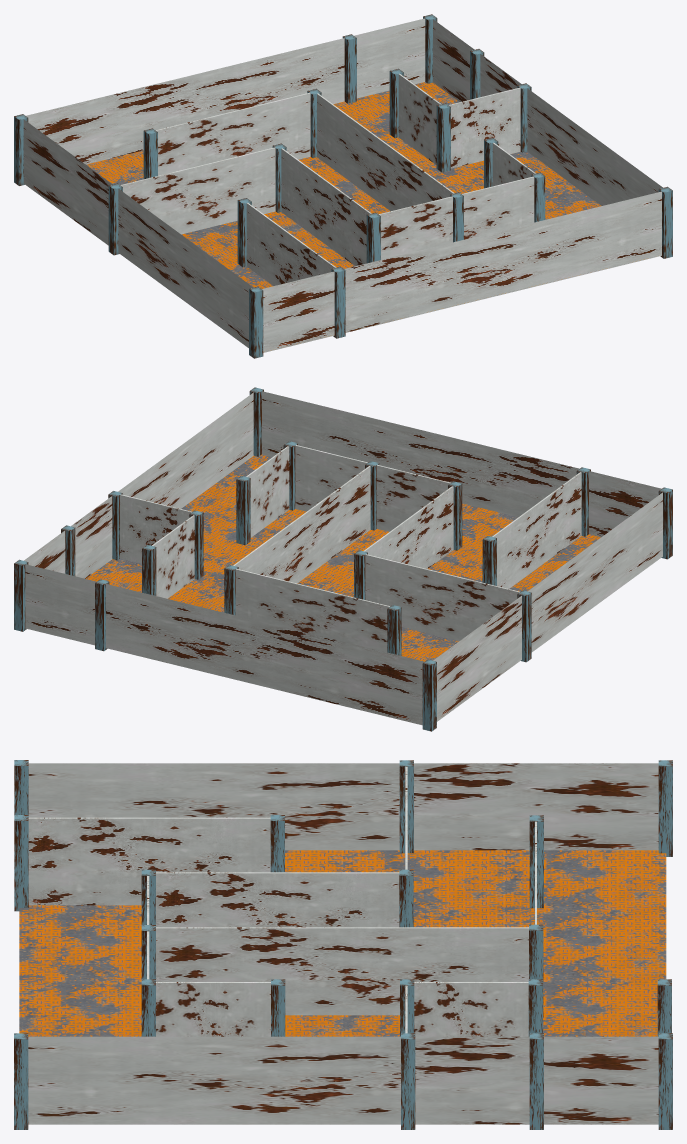
The model's file is StagePlane.fbx.
3 renders of one model, top to bottom at view 1: azimuth 30°, elevation 25°; view 2: azimuth 150°, elevation 25°; view 3: azimuth 270°, elevation 25°, orthographic. The views are drawn at different scales.
Visible parts, largest first — view 1: pCube20; view 2: pCube20; view 3: pCube20.
Part boxes in pixels (left/top/right/bottom): pCube20: left=14, top=14, right=672, bottom=358; pCube20: left=14, top=387, right=672, bottom=731; pCube20: left=14, top=760, right=672, bottom=1129.
Bounding box in the file's own units: 255 × 38.56 × 255.
